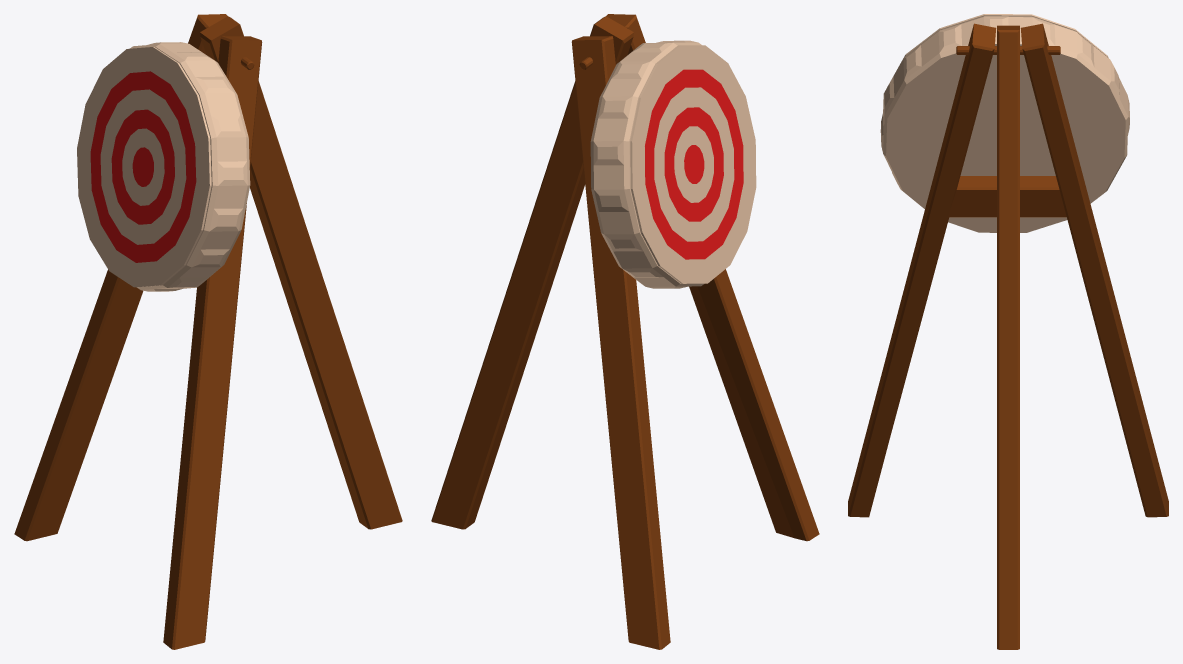
The model's file is Target.fbx.
3 views of the same model, side by side, from view 1: azimuth 30°, elevation 25°; view 2: azimuth 150°, elevation 25°; view 3: azimuth 270°, elevation 25° (orthographic).
Parts seen in each view (by area): view 1: TargetFrontPanel, StakeLeft, StakeMiddle, StakeRight, Target; view 2: TargetFrontPanel, StakeRight, StakeMiddle, StakeLeft, Target; view 3: Target, StakeMiddle, StakeRight, StakeLeft, StakeLink, TargetFrontPanel.
Boxes of the visible parts, x1,y1,x2,y2 form: TargetFrontPanel: (77, 47, 211, 287); StakeLeft: (163, 36, 262, 649); StakeMiddle: (200, 16, 402, 529); StakeRight: (14, 14, 227, 541); Target: (130, 42, 250, 291); TargetFrontPanel: (630, 45, 756, 283); StakeRight: (571, 36, 670, 649); StakeMiddle: (431, 16, 633, 529); StakeLeft: (606, 14, 819, 541); Target: (590, 40, 704, 288); Target: (880, 16, 1129, 232); StakeMiddle: (997, 25, 1019, 649); StakeRight: (1020, 23, 1168, 517); StakeLeft: (848, 23, 996, 517); StakeLink: (948, 176, 1066, 217); TargetFrontPanel: (887, 14, 1108, 86).
Size of the model in its own units: 156 by 262 by 141.
